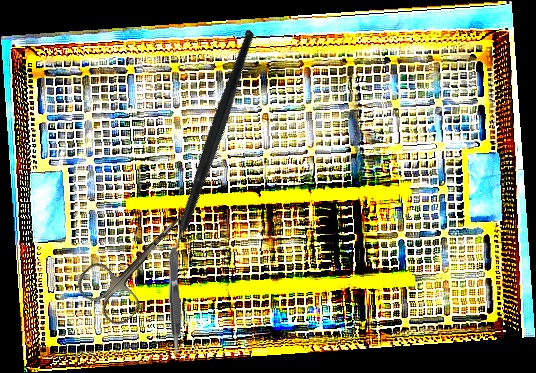Chopper: (101, 29, 328, 275)
Iris Scissors: (71, 193, 207, 331)
Tissue Forceps: (167, 246, 183, 359)
